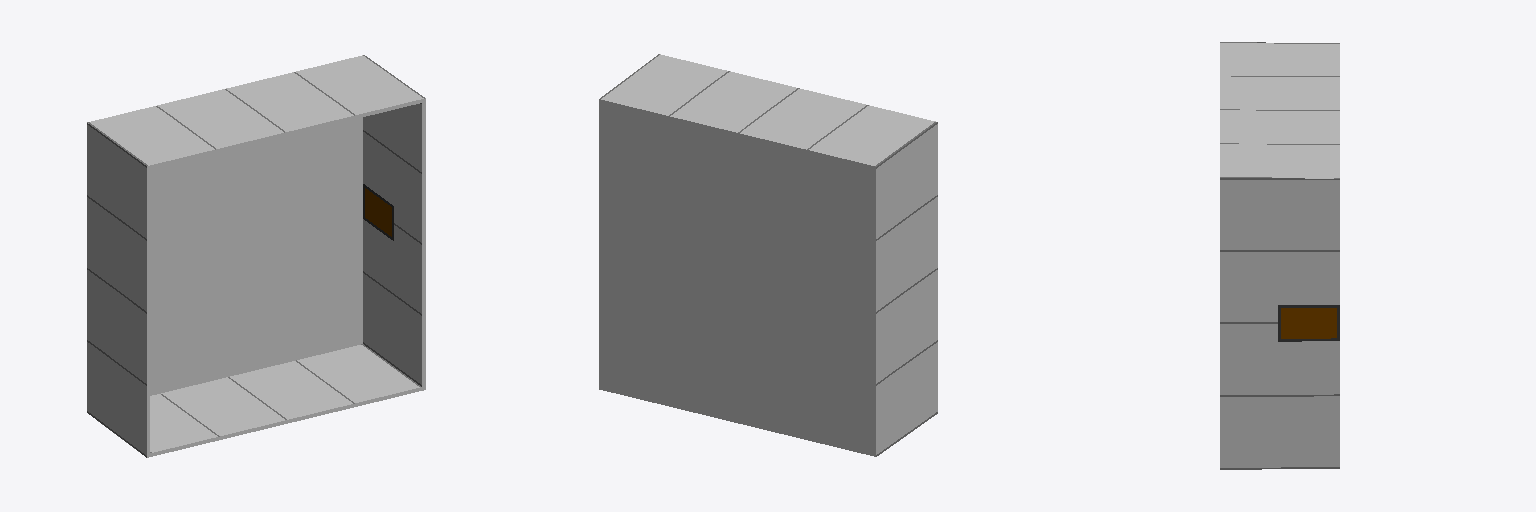
3 views of the same model, side by side, from view 1: azimuth 30°, elevation 25°; view 2: azimuth 150°, elevation 25°; view 3: azimuth 270°, elevation 25° (orthographic).
Parts seen in each view (by area): view 1: Cube_Cube.001; view 2: Cube_Cube.001; view 3: Cube_Cube.001.
Part boxes in pixels (x1,y1,x2,y2): Cube_Cube.001: (87, 55, 425, 457); Cube_Cube.001: (599, 54, 937, 456); Cube_Cube.001: (1220, 42, 1339, 469).
Size of the model in its own units: 16.42 by 16.42 by 6.17.
2 materials, 1 textured.